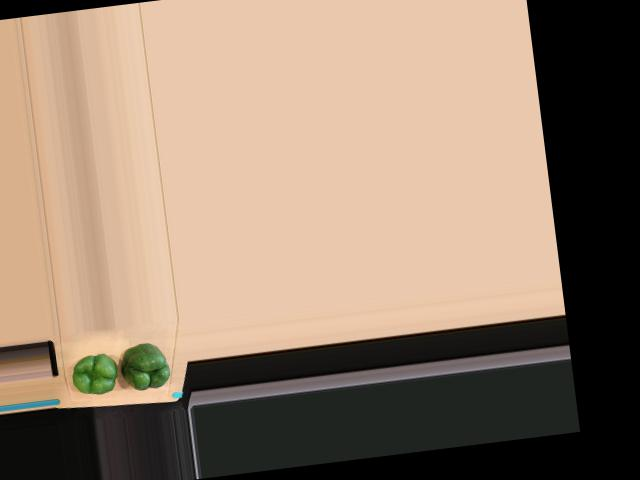bell_pepper: (70, 346, 121, 398)
